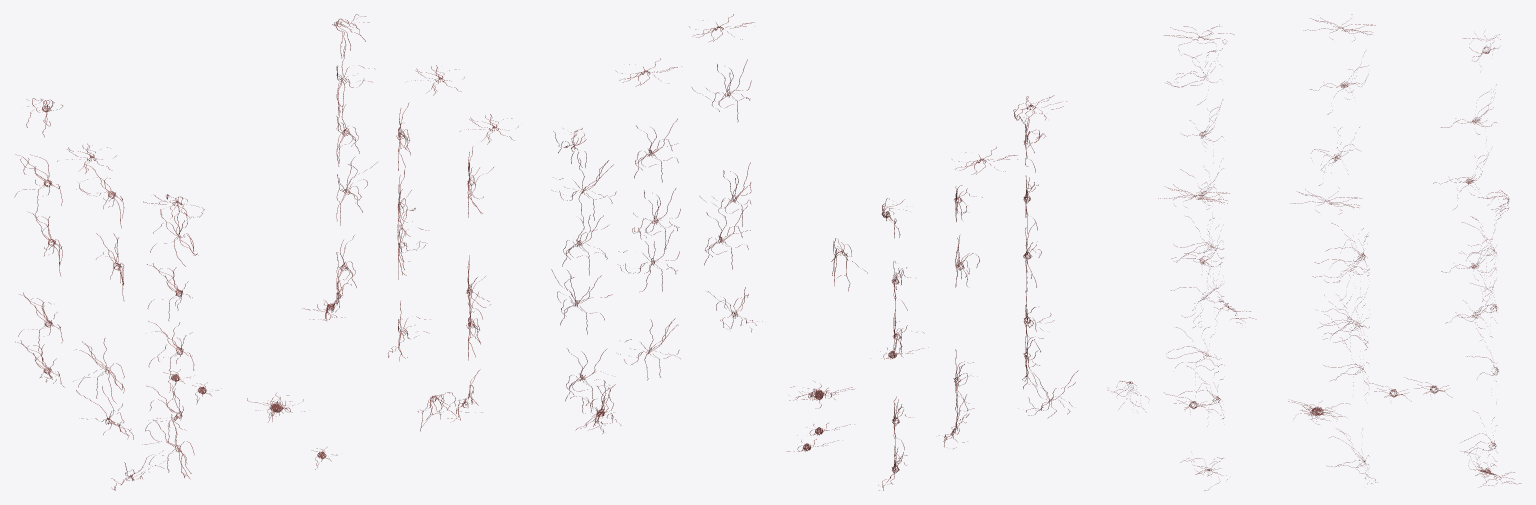
The model's file is Combined mesh Ivy 2D Branches.fbx.
The picture shows the model from 3 angles, left to right: view 1: azimuth 30°, elevation 25°; view 2: azimuth 150°, elevation 25°; view 3: azimuth 270°, elevation 25°; orthographic projection. The views are drawn at different scales.
Visible parts, largest first — view 1: Combined mesh; view 2: Combined mesh; view 3: Combined mesh.
Part boxes in pixels (x1,y1,x2,y2): Combined mesh: (14, 14, 518, 490); Combined mesh: (551, 14, 1078, 490); Combined mesh: (1108, 14, 1521, 490).
Bounding box in the file's own units: 15.62 × 10.73 × 13.38.
